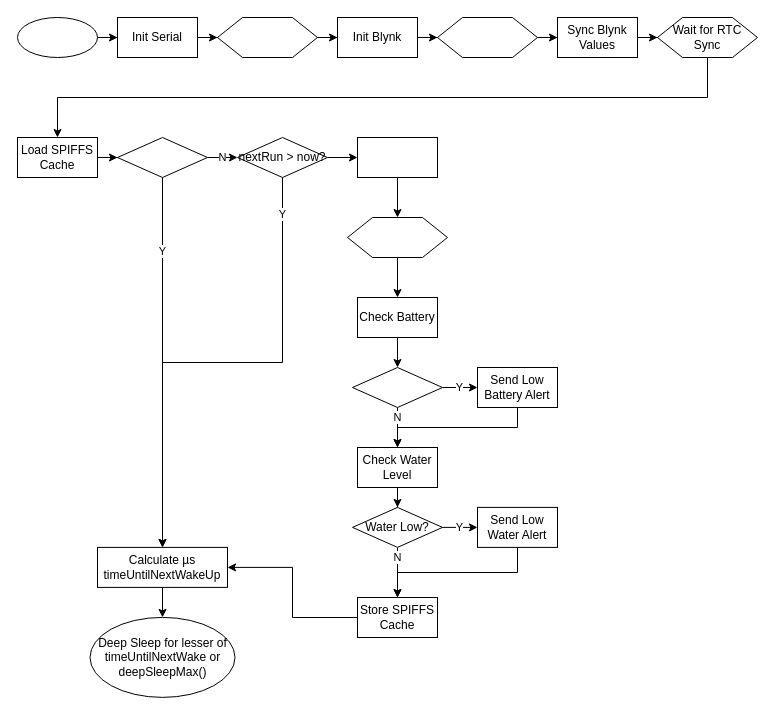
Some shapes in this 775 by 715 pixel diagram are drawn without their labels. Here are the shapes that lost their labels. From the top down, the box of each, then its label:
(16, 16, 98, 58): BOOT
(216, 16, 318, 58): Wait for Serial
(436, 16, 538, 58): Wait for Blynk
(116, 136, 208, 178): Previous Run = Today?
(356, 136, 438, 178): Turn on Pump
(346, 216, 448, 258): Wait until pump duration
(352, 366, 442, 408): Battery Low?
